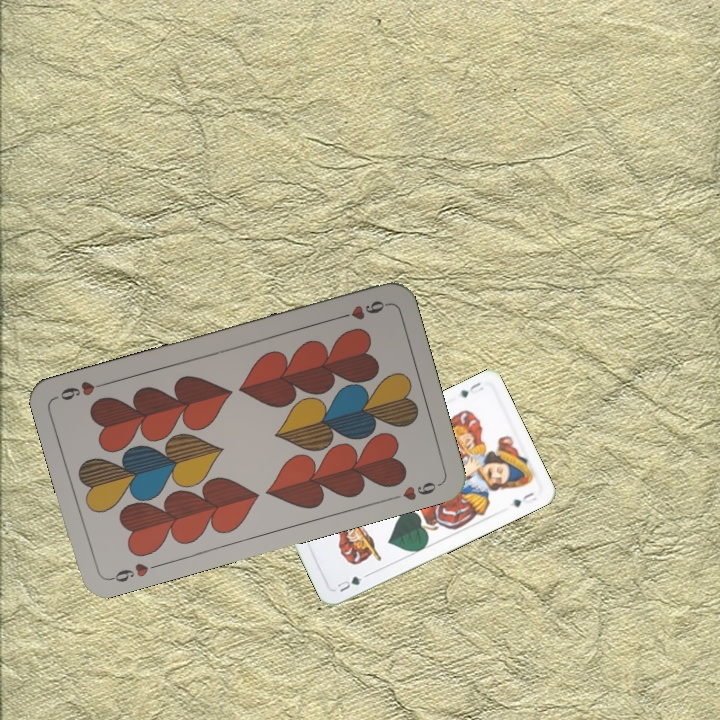GU: (333, 570, 370, 595), (456, 378, 486, 400)
H9: (332, 296, 390, 323), (105, 559, 163, 585)
